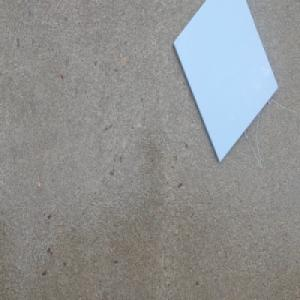PaintChip: (172, 0, 279, 165)
